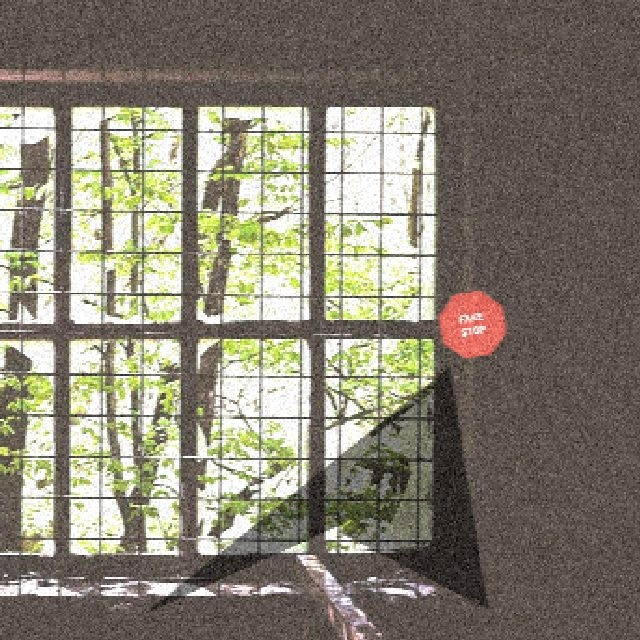FAKE_STOP: (436, 288, 506, 358)
